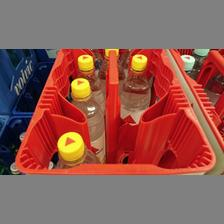Wasser: (68, 78, 104, 158), (118, 53, 150, 121), (48, 129, 100, 169)
